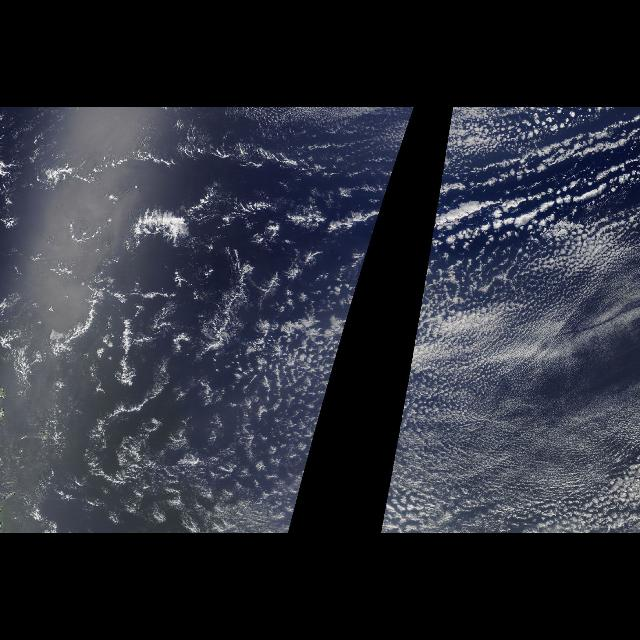Gravel: (27, 114, 313, 530), (430, 111, 634, 377), (416, 382, 634, 528)
Sugar: (2, 252, 368, 524), (380, 250, 638, 528)
